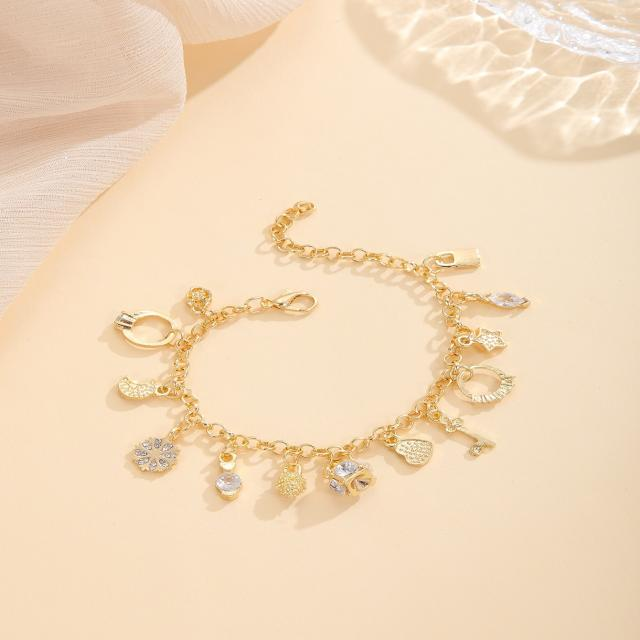bracelet: (42, 128, 618, 594)
